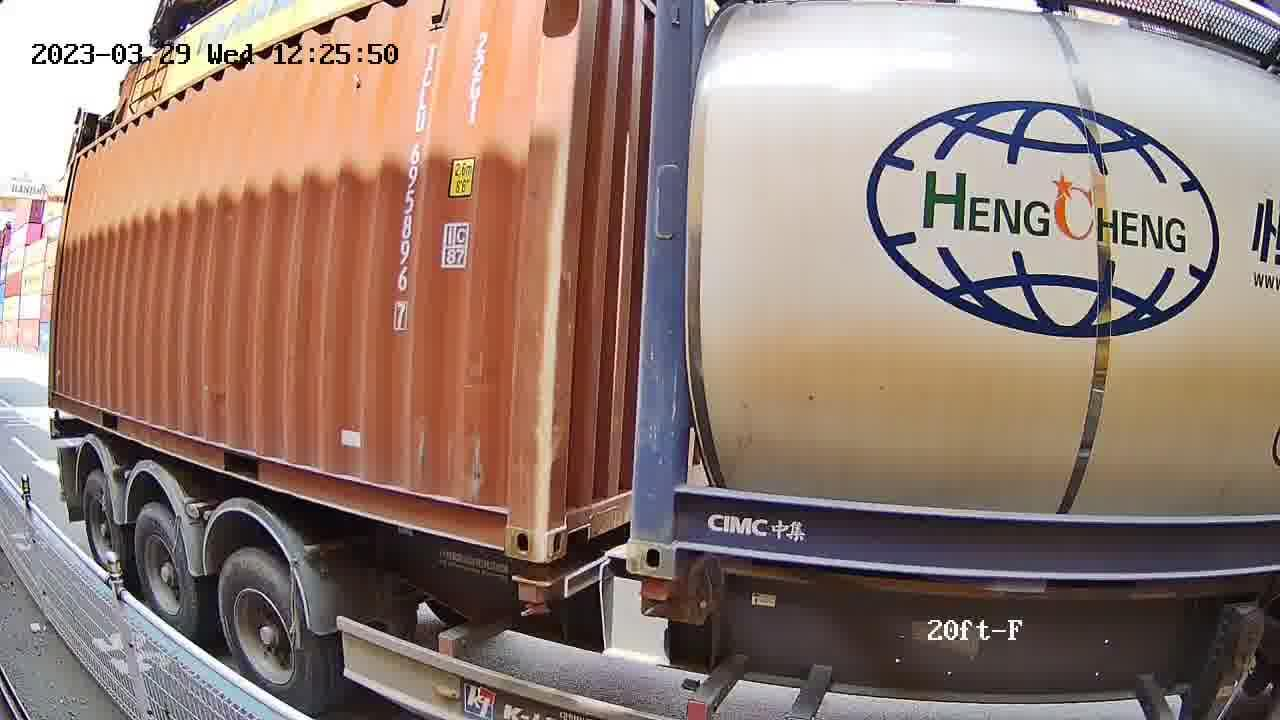Cone: (516, 568, 562, 618), (639, 577, 681, 622)
Hole_L: (627, 508, 715, 582), (542, 475, 597, 564)
Hole_R: (470, 479, 544, 564)
Tire: (219, 553, 317, 714), (135, 503, 194, 639), (81, 474, 123, 580)
